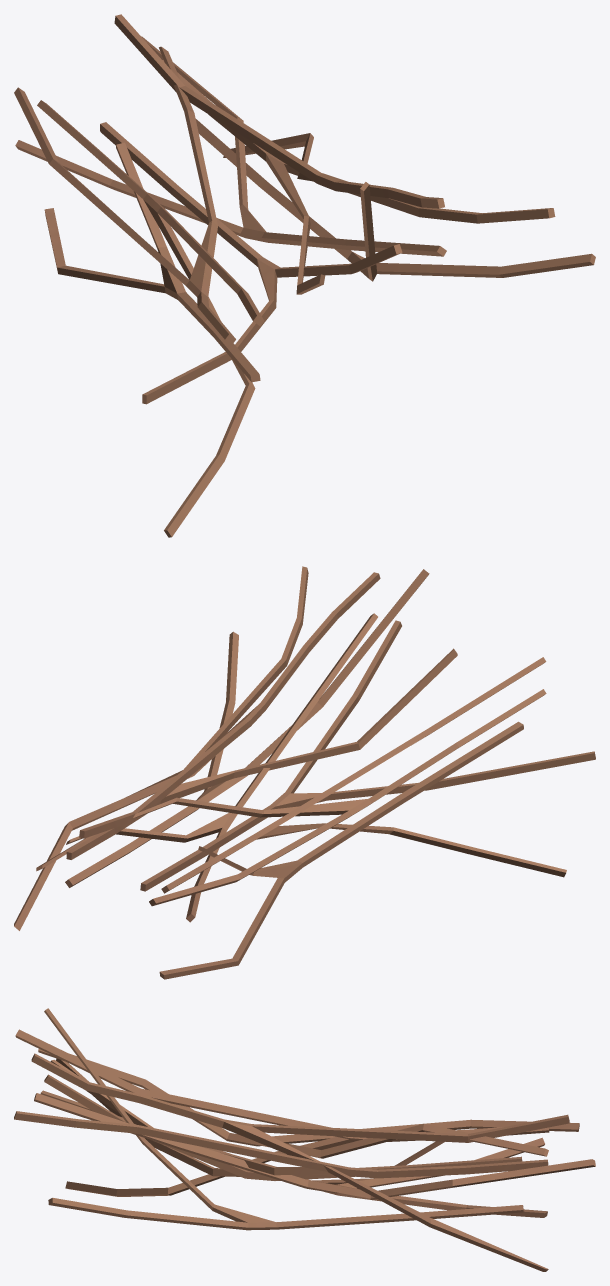
The model's file is PastoSeco.fbx.
The picture shows the model from 3 angles, top to bottom: view 1: azimuth 30°, elevation 25°; view 2: azimuth 150°, elevation 25°; view 3: azimuth 270°, elevation 25°; orthographic projection. The views are drawn at different scales.
Visible parts, largest first — view 1: PastoSeco; view 2: PastoSeco; view 3: PastoSeco.
Boxes of the visible parts, <box> form: PastoSeco: <box>14,14,595,537</box>; PastoSeco: <box>14,566,595,979</box>; PastoSeco: <box>14,1008,595,1271</box>.
Size of the model in its own units: 246 by 352 by 168.
1 material, 1 textured.
